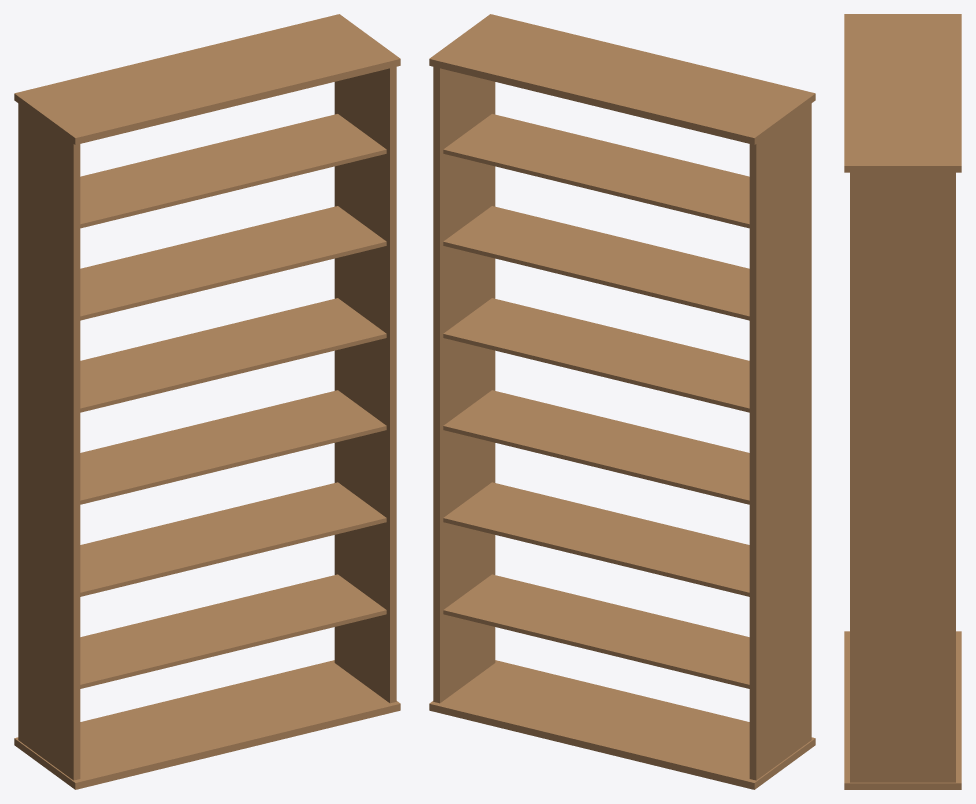
The model's file is buecherregal.glb.
3 renders of one model, left to right at view 1: azimuth 30°, elevation 25°; view 2: azimuth 150°, elevation 25°; view 3: azimuth 270°, elevation 25°, orthographic. The views are drawn at different scales.
Parts seen in each view (by area): view 1: Bookshelf; view 2: Bookshelf; view 3: Bookshelf.
Boxes of the visible parts, x1,y1,x2,y2 form: Bookshelf: [14, 14, 400, 789]; Bookshelf: [429, 14, 815, 789]; Bookshelf: [844, 14, 961, 789].
Bounding box in the file's own units: 0.9925 × 1.9 × 0.3237.
